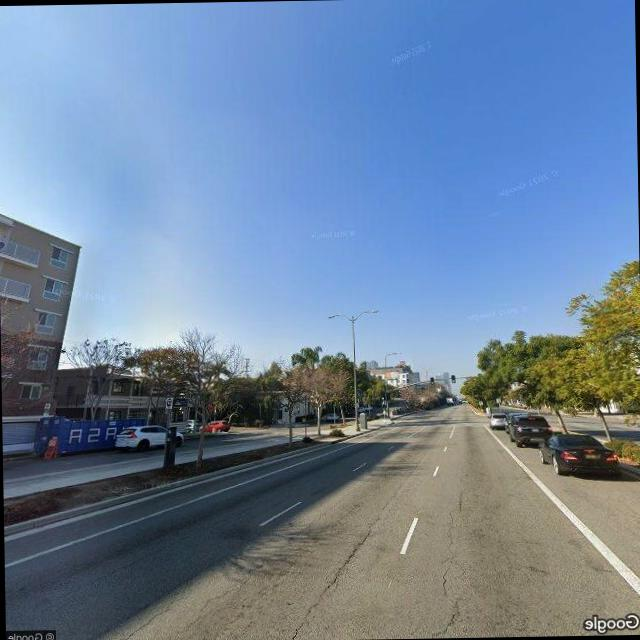crack: (278, 518, 381, 638), (186, 559, 267, 626), (432, 494, 468, 636), (96, 596, 180, 640)
